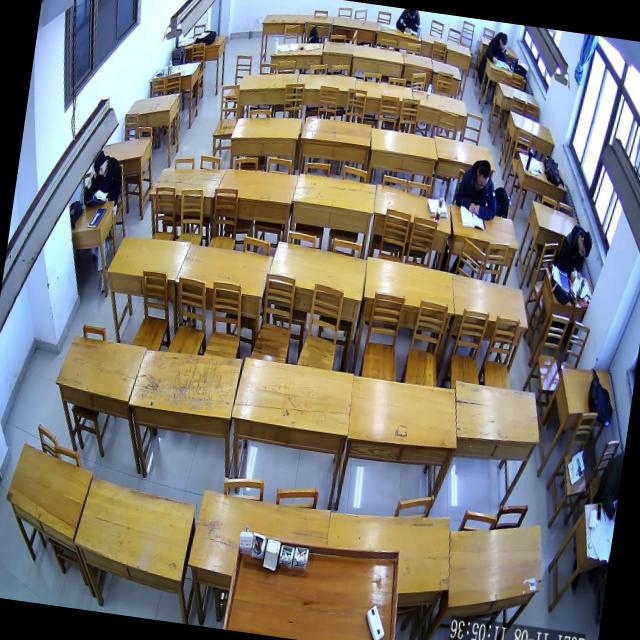down: (472, 158, 493, 194), (576, 228, 594, 262), (90, 148, 108, 180), (496, 32, 509, 53)
sit: (452, 154, 504, 222), (552, 219, 596, 288), (81, 146, 127, 211), (484, 28, 512, 68)
